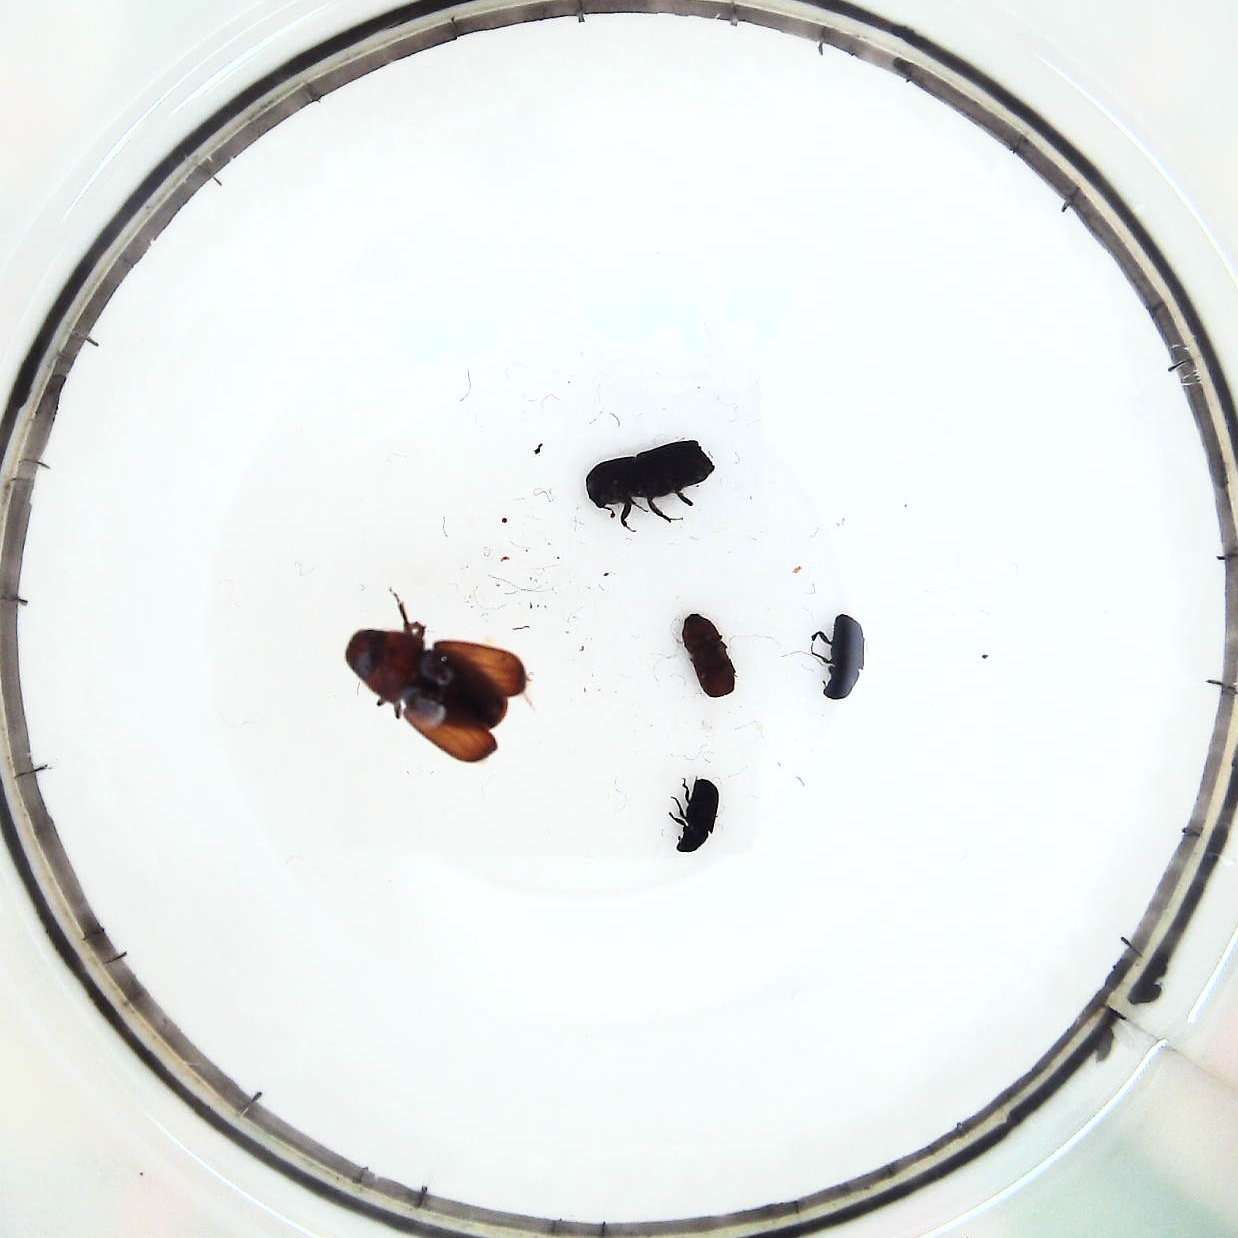Boerner: (585, 440, 716, 516)
Leconte: (347, 622, 529, 768)
Linnaeus: (682, 610, 737, 698)
armandi: (819, 611, 862, 699)
coleoptera: (676, 774, 718, 856)
